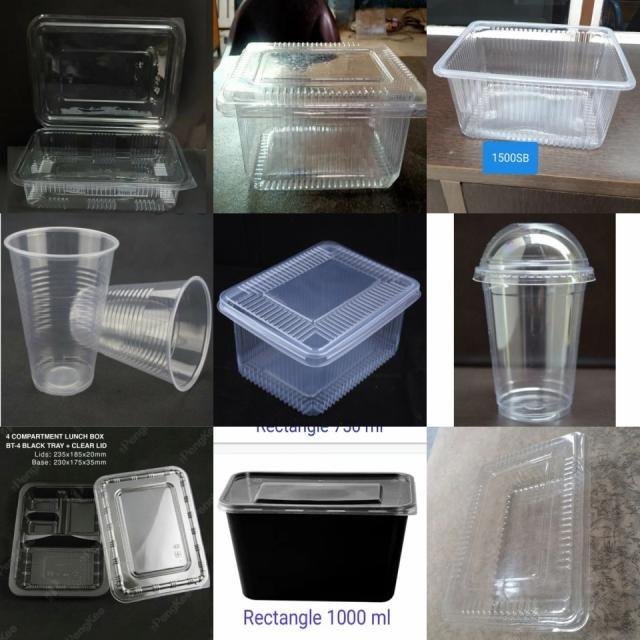Single-Use-Plastic: (11, 15, 196, 212), (218, 241, 420, 415), (216, 44, 426, 190), (442, 432, 590, 631), (434, 21, 636, 149), (219, 472, 416, 602), (474, 222, 595, 422), (4, 228, 119, 396), (69, 276, 211, 391), (94, 466, 210, 602), (10, 482, 109, 596)
